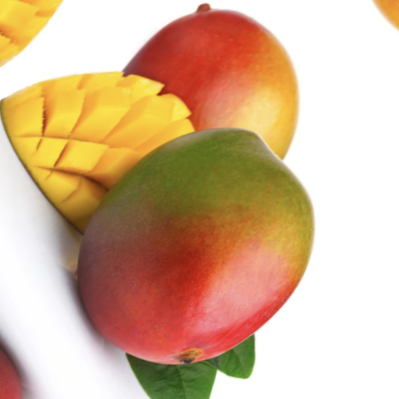mango: (22, 82, 370, 399), (62, 0, 355, 254)
